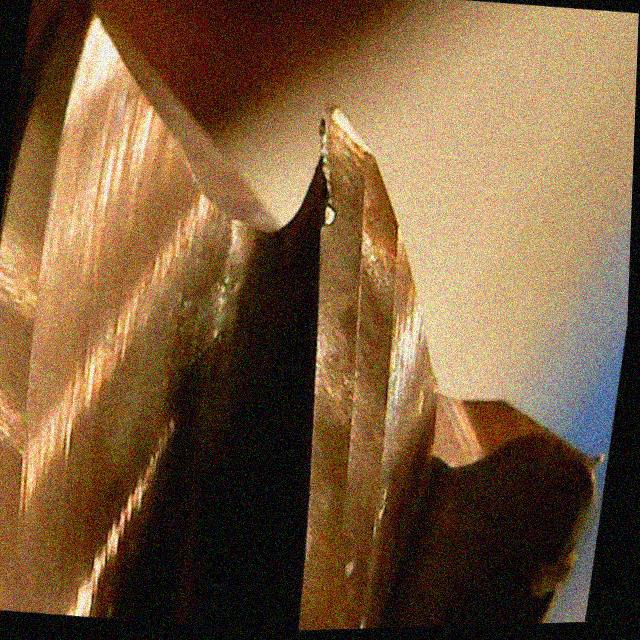Tool-wear-class-1: (274, 102, 419, 398)
